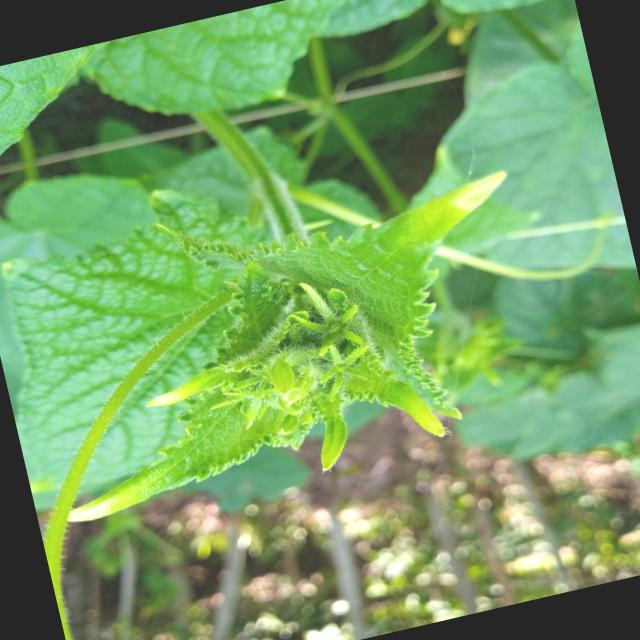cucumber_healthy: (0, 103, 577, 564), (0, 0, 385, 202)
